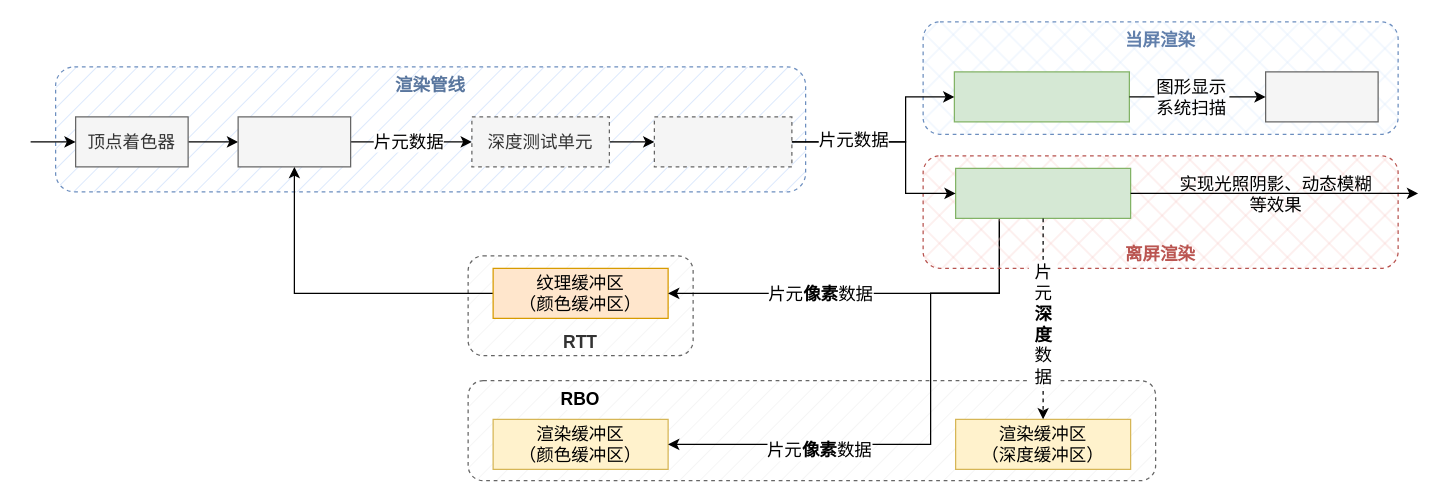
Some shapes in this 1450 by 503 pixel diagram are drawn without their labels. The centre of each missing label's shape, as x and y in pixels:
"canvas 画布" goes at point (1321, 96).
"α 融合单元" goes at point (722, 141).
"片元着色器" goes at point (294, 141).
"窗口系统帧缓冲区" goes at point (1041, 96).
"自定义帧缓冲区" goes at point (1042, 192).
